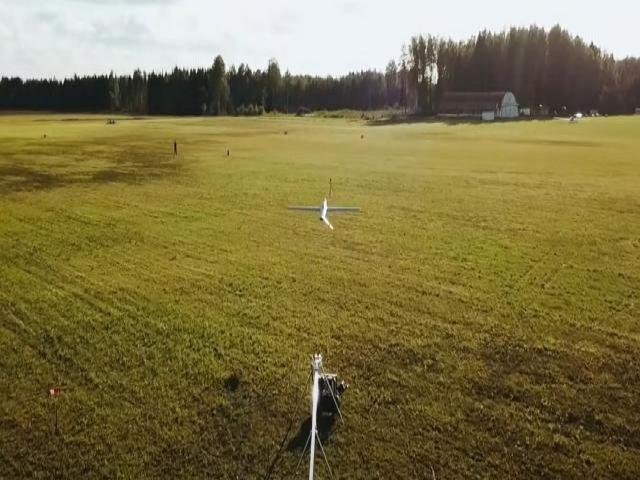iha: (287, 194, 365, 230)
